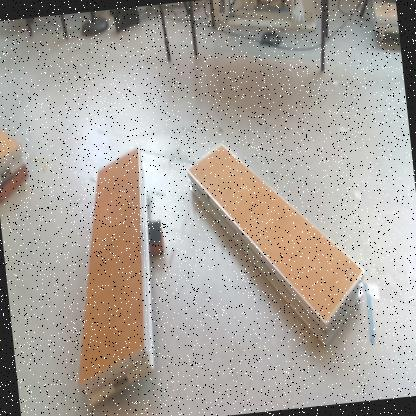Stairs: (189, 142, 364, 347), (79, 146, 155, 412), (1, 128, 26, 184)
